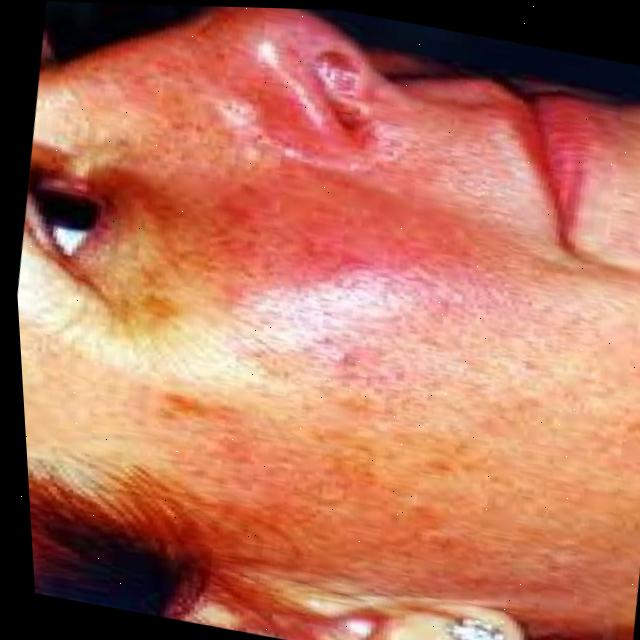Rosacea: (163, 177, 469, 411), (122, 4, 333, 174)
